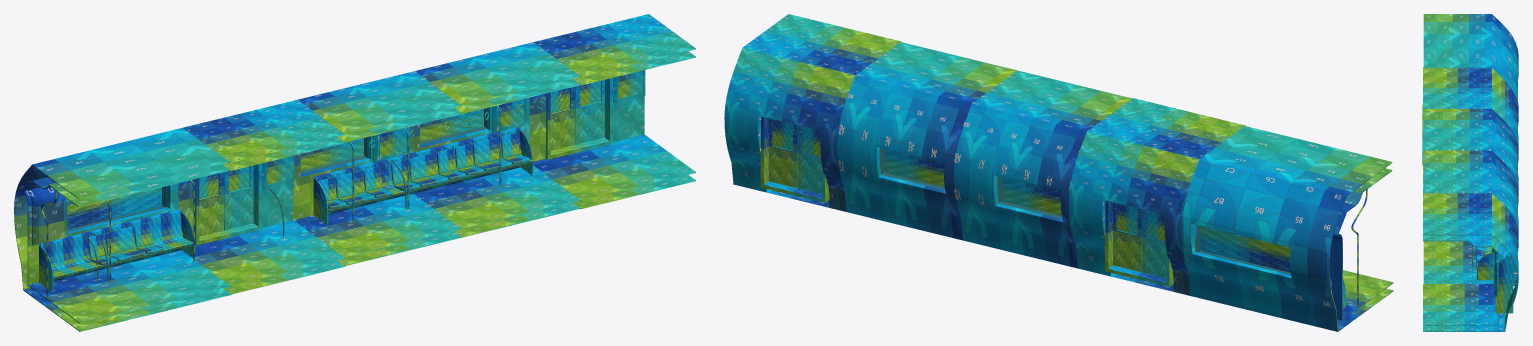
3 renders of one model, left to right at view 1: azimuth 30°, elevation 25°; view 2: azimuth 150°, elevation 25°; view 3: azimuth 270°, elevation 25°, orthographic. The views are drawn at different scales.
Parts seen in each view (by area): view 1: base_train, base_train002, base_train003, Object003, Object, Object009, base_fauteuil, porte001, porte, Object001, portemain001, portemain (+12 smaller); view 2: base_train, Object, Object003, base_train002, base_train003, porte, porte001, Object001, vitre, vitre001, portemain, portemain001 (+2 smaller); view 3: base_train002, Object, base_train, base_train003, Object003, portemain, ext_seat003, fauteuil_base007.
Boxes of the visible parts, bbox=[...] form: base_train: bbox=[14, 127, 231, 331]; base_train002: bbox=[529, 14, 695, 208]; base_train003: bbox=[178, 99, 344, 294]; Object003: bbox=[293, 71, 461, 265]; Object: bbox=[410, 42, 579, 237]; Object009: bbox=[39, 209, 193, 281]; base_fauteuil: bbox=[314, 127, 532, 214]; porte001: bbox=[199, 165, 253, 236]; porte: bbox=[550, 80, 604, 150]; Object001: bbox=[67, 187, 161, 229]; portemain001: bbox=[194, 163, 261, 245]; portemain: bbox=[545, 78, 612, 159]; base_train: bbox=[1180, 126, 1393, 331]; Object: bbox=[837, 42, 1017, 240]; Object003: bbox=[954, 70, 1131, 268]; base_train002: bbox=[724, 14, 901, 211]; base_train003: bbox=[1069, 98, 1245, 295]; porte: bbox=[768, 118, 821, 194]; porte001: bbox=[1113, 202, 1166, 277]; Object001: bbox=[1200, 226, 1290, 272]; vitre: bbox=[884, 149, 944, 186]; vitre001: bbox=[1002, 177, 1061, 215]; portemain: bbox=[760, 116, 829, 202]; portemain001: bbox=[1105, 200, 1173, 286]; base_train002: bbox=[1423, 193, 1518, 331]; Object: bbox=[1423, 150, 1518, 283]; base_train: bbox=[1422, 14, 1518, 165]; base_train003: bbox=[1423, 67, 1518, 193]; Object003: bbox=[1423, 109, 1518, 190]; portemain: bbox=[1495, 249, 1513, 313]; ext_seat003: bbox=[1478, 253, 1494, 280]; fauteuil_base007: bbox=[1476, 249, 1491, 260].
Size of the model in its own units: 19.86 by 4.09 by 3.68.
1 material, 1 textured.
